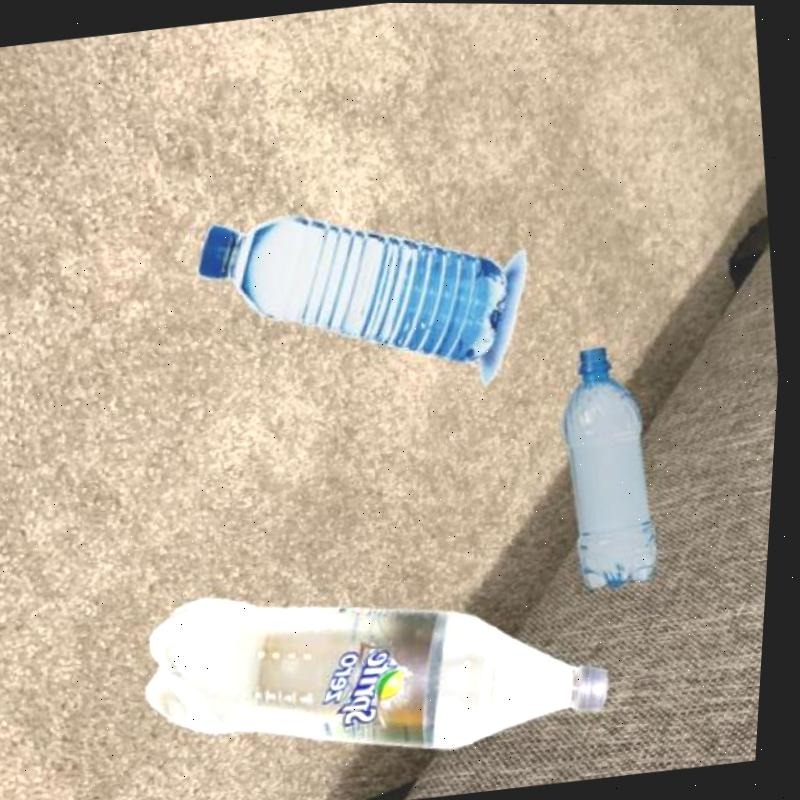botella: (132, 547, 636, 800), (188, 187, 522, 395), (549, 337, 677, 589)
